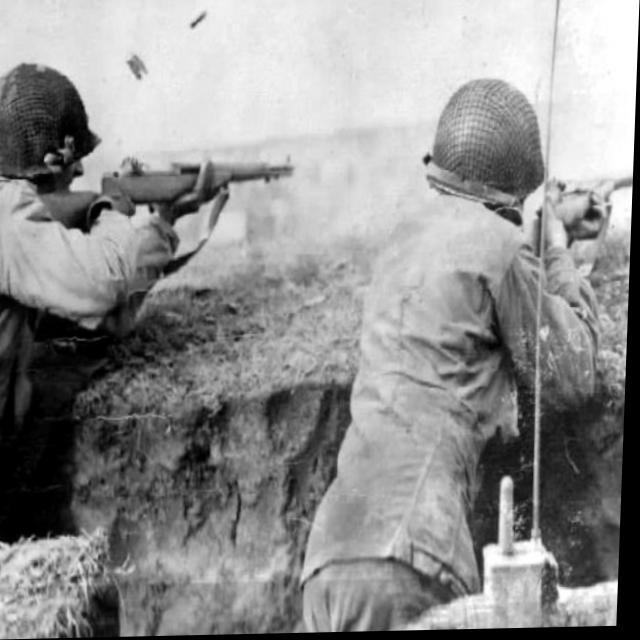other: (315, 80, 558, 622), (0, 58, 148, 546)
